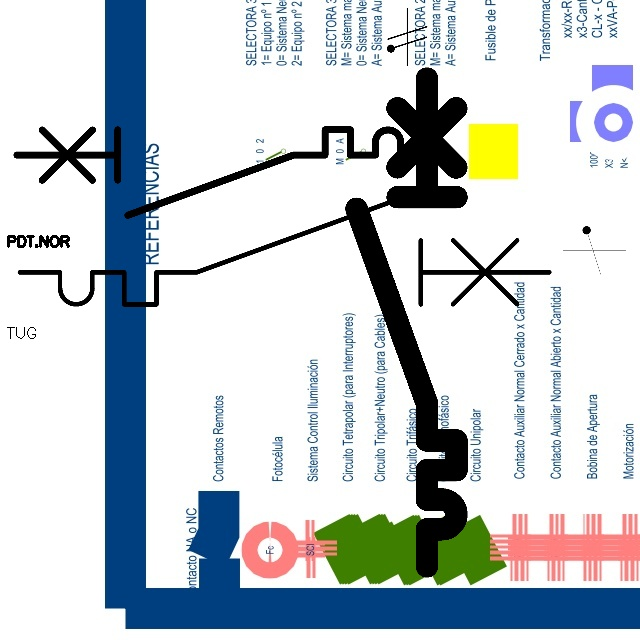interruptor_termomagnetico: (6, 182, 563, 318), (344, 66, 469, 579), (6, 119, 443, 226)
